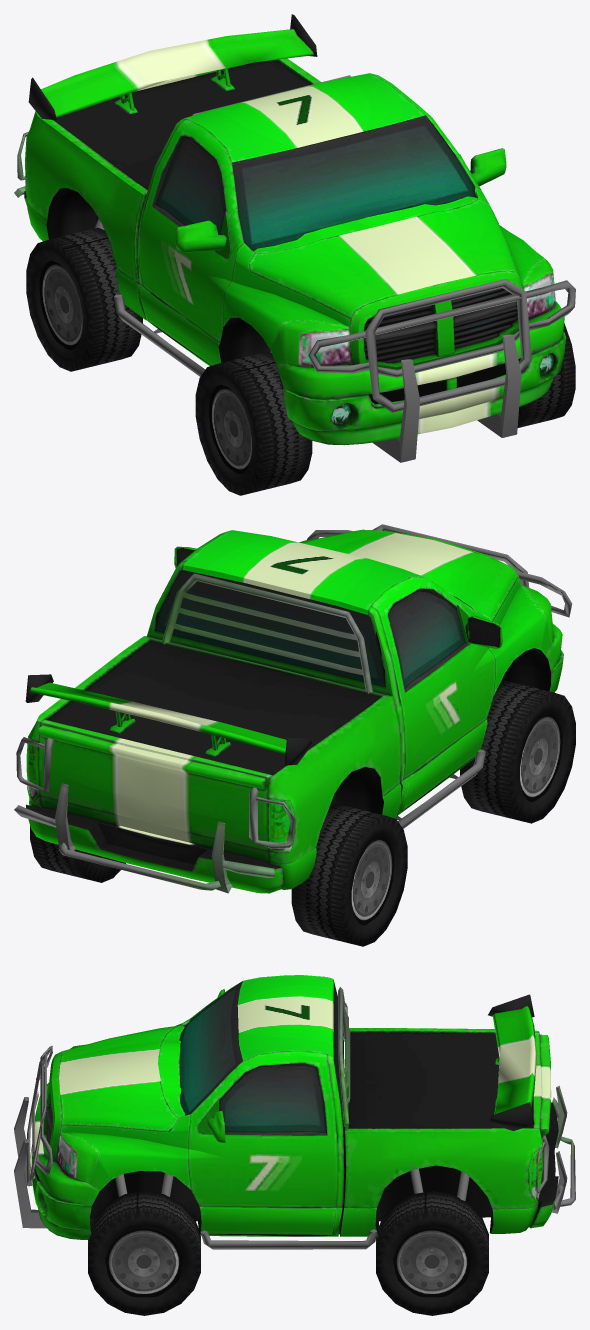
Rendered from Car 5.glb.
3 renders of one model, top to bottom at view 1: azimuth 30°, elevation 25°; view 2: azimuth 150°, elevation 25°; view 3: azimuth 270°, elevation 25°, orthographic. The views are drawn at different scales.
Parts seen in each view (by area): view 1: carShape_low_001, chrome_low, tireFrontR_low_015, tireBackR_low_015, carBody_low_016, tireFrontL_low_016; view 2: carShape_low_001, tireBackR_low_015, tireFrontR_low_015, chrome_low, carBody_low_016, tireBackL_low_015; view 3: carShape_low_001, tireBackL_low_015, tireFrontL_low_016, chrome_low, carBody_low_016.
Part boxes in pixels (x1,y1,x2,y2): carShape_low_001: [24, 58, 566, 445]; chrome_low: [14, 132, 575, 462]; tireFrontR_low_015: [195, 351, 312, 495]; tireBackR_low_015: [26, 227, 142, 371]; carBody_low_016: [28, 14, 317, 120]; tireFrontL_low_016: [517, 323, 575, 427]; carShape_low_001: [26, 529, 563, 893]; tireBackR_low_015: [291, 803, 407, 946]; tireFrontR_low_015: [460, 680, 575, 823]; chrome_low: [14, 524, 572, 893]; carBody_low_016: [25, 674, 312, 765]; tireBackL_low_015: [30, 825, 125, 882]; carShape_low_001: [29, 975, 558, 1239]; tireBackL_low_015: [376, 1191, 488, 1315]; tireFrontL_low_016: [88, 1191, 200, 1315]; chrome_low: [14, 1045, 575, 1249]; carBody_low_016: [488, 994, 536, 1130].
Size of the model in its own units: 0.6894 by 0.5659 by 1.2.
Materials: 3 (3 with a texture image).
